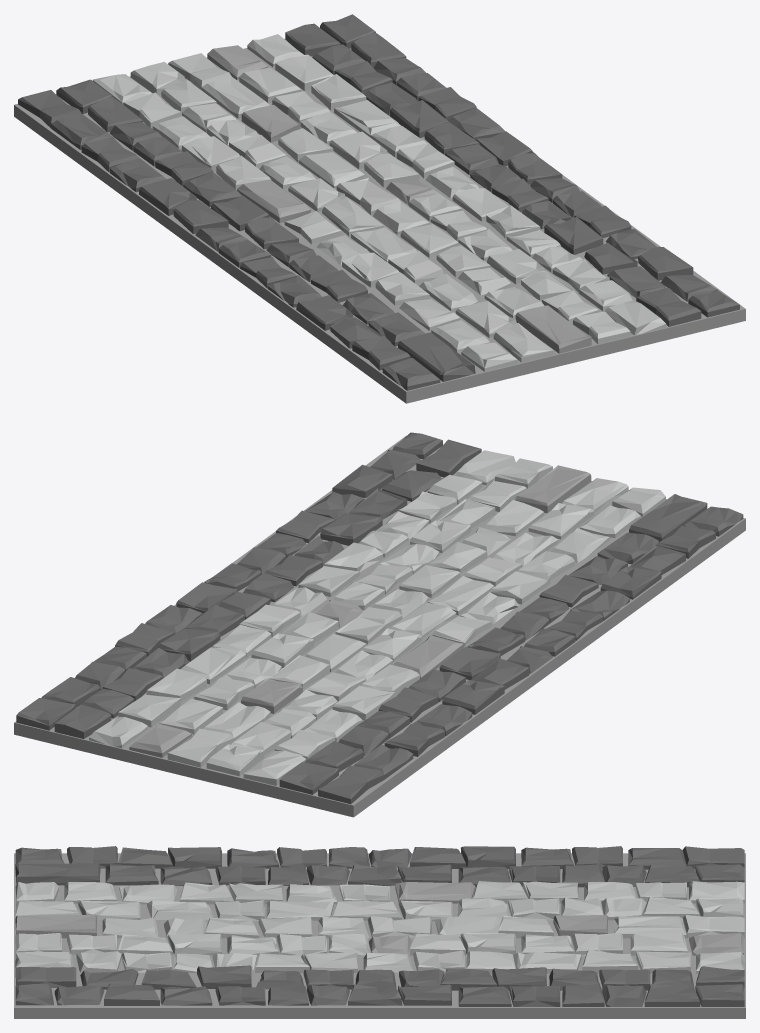
File: Road_Brick_01.glb
3 renders of one model, top to bottom at view 1: azimuth 30°, elevation 25°; view 2: azimuth 150°, elevation 25°; view 3: azimuth 270°, elevation 25°, orthographic. The views are drawn at different scales.
Visible parts, largest first — view 1: Road_breek_1; view 2: Road_breek_1; view 3: Road_breek_1.
Boxes of the visible parts, box(x1,y1,x2,y2) form: Road_breek_1: box(14, 14, 745, 403); Road_breek_1: box(14, 432, 745, 817); Road_breek_1: box(14, 846, 745, 1018).
Size of the model in its own units: 3 by 0.187 by 6.
1 material, 1 textured.
